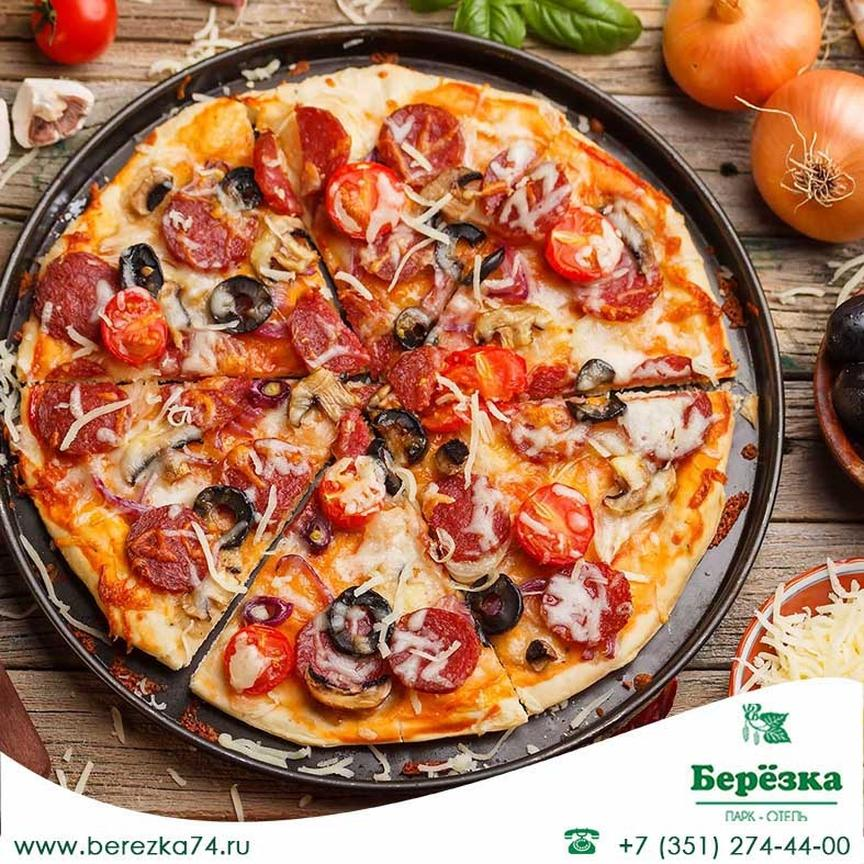Mushroom: (408, 164, 498, 235), (595, 449, 682, 519), (120, 419, 211, 484), (604, 195, 663, 291), (278, 361, 372, 420), (300, 662, 396, 717), (469, 296, 559, 352), (244, 215, 317, 280), (127, 165, 180, 214), (390, 304, 430, 352), (522, 632, 561, 677), (437, 438, 478, 468)
Olives: (420, 214, 514, 287), (320, 584, 400, 657), (193, 480, 257, 544), (207, 274, 274, 335), (569, 356, 625, 426), (467, 568, 523, 631), (112, 239, 169, 298), (371, 404, 428, 462), (213, 161, 263, 211), (365, 438, 404, 497)
Pepperoni: (25, 353, 136, 462), (27, 239, 127, 349), (476, 143, 577, 245), (623, 347, 716, 456), (528, 554, 635, 648), (217, 437, 317, 532), (161, 168, 253, 271), (422, 467, 518, 564), (382, 605, 482, 691), (504, 360, 589, 461), (287, 282, 379, 375), (119, 503, 213, 594), (373, 100, 469, 185), (568, 240, 667, 322), (287, 100, 353, 202), (372, 323, 438, 411), (249, 132, 307, 225)
Pizza: (10, 57, 740, 743)
Tomatoes: (424, 342, 529, 430), (322, 158, 410, 244), (515, 479, 596, 571), (542, 202, 621, 285), (93, 287, 171, 364), (221, 623, 295, 702), (317, 454, 390, 532)
